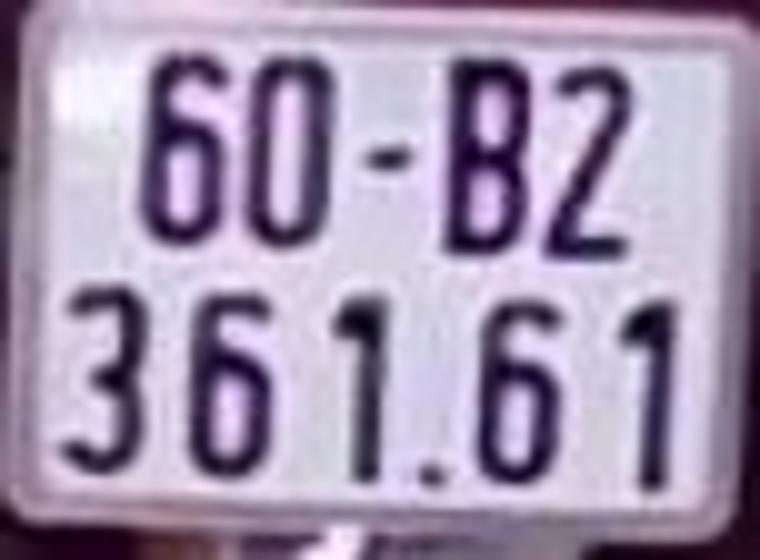-: (358, 139, 422, 179)
.: (414, 455, 457, 495)
0: (244, 40, 353, 256)
1: (324, 286, 402, 491), (614, 290, 685, 500)
2: (546, 54, 648, 268)
3: (56, 285, 152, 473)
6: (133, 45, 237, 255), (467, 290, 576, 485), (190, 290, 278, 490)
B: (443, 49, 538, 258)
